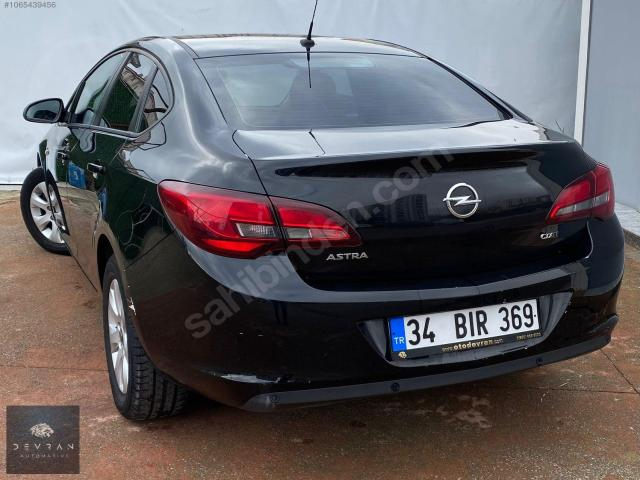plaka: (389, 299, 540, 356)
